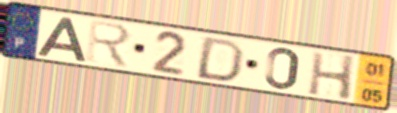0: (263, 46, 302, 91)
2: (151, 30, 189, 78)
A: (34, 16, 88, 63)
D: (193, 35, 248, 84)
H: (306, 50, 358, 103)
R: (84, 18, 134, 71)
